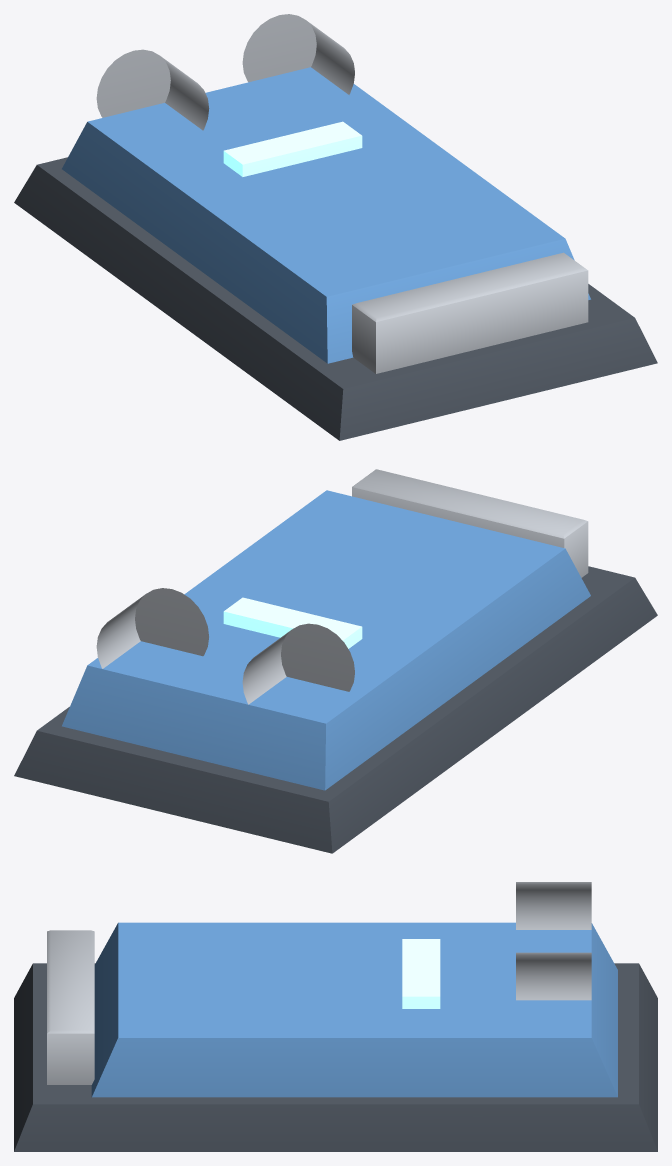
Rendered from allied_lcv.glb.
The picture shows the model from 3 angles, top to bottom: view 1: azimuth 30°, elevation 25°; view 2: azimuth 150°, elevation 25°; view 3: azimuth 270°, elevation 25°; orthographic projection.
Visible parts, largest first — view 1: Hull; view 2: Hull; view 3: Hull.
Part boxes in pixels (box(x1,y1,x2,y2)): Hull: box(14, 14, 657, 440); Hull: box(14, 469, 657, 853); Hull: box(14, 882, 657, 1151).
Size of what is drawn, in the model's own units: 1.92 by 0.896 by 3.4.
